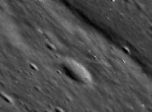crater: (46, 55, 116, 97)
